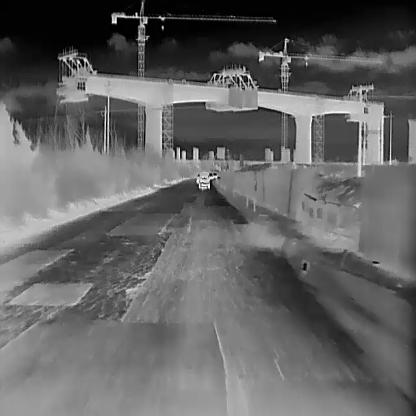car: (196, 172, 209, 188), (209, 171, 212, 178), (214, 172, 217, 177)
